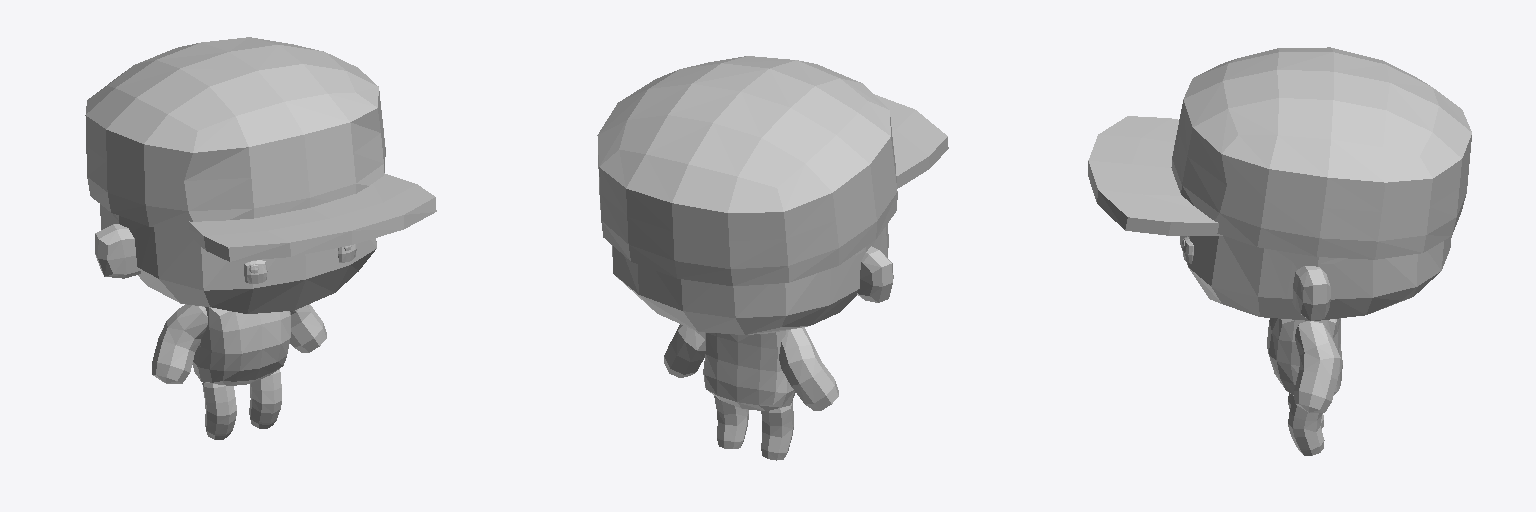
The model's file is idle_0016.obj.
3 renders of one model, left to right at view 1: azimuth 30°, elevation 25°; view 2: azimuth 150°, elevation 25°; view 3: azimuth 270°, elevation 25°, orthographic.
Parts seen in each view (by area): view 1: Object_41, Object_42, Object_36, Object_44, Object_38; view 2: Object_41, Object_44, Object_36, Object_42; view 3: Object_41, Object_36, Object_42, Object_44.
Part boxes in pixels (x1,y1,x2,y2): Object_41: (85,37,385,232); Object_42: (184,108,436,261); Object_36: (95,204,376,313); Object_44: (152,304,326,439); Object_38: (244,244,356,283); Object_41: (597,56,897,285); Object_44: (664,324,838,460); Object_36: (612,224,893,334); Object_42: (874,94,948,188); Object_41: (1183,47,1471,259); Object_36: (1180,236,1451,320); Object_42: (1088,100,1226,235); Object_44: (1267,318,1342,455).
Size of the model in its own units: 0.9691 by 1.22 by 1.14.